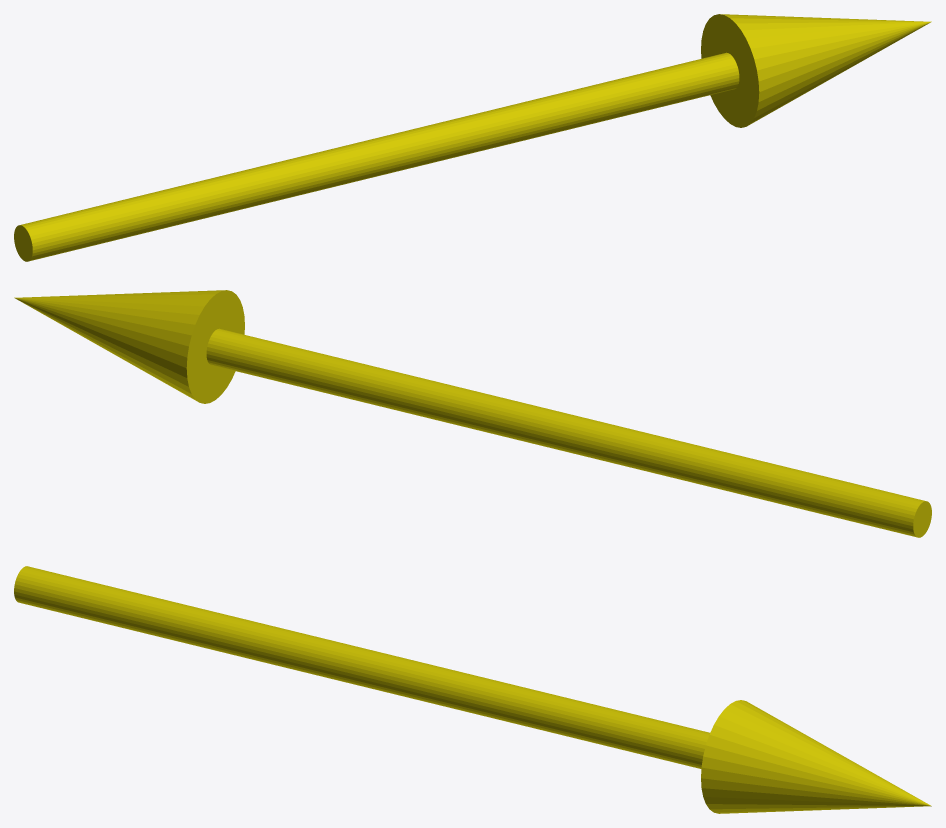
The model's file is translate.fbx.
3 renders of one model, top to bottom at view 1: azimuth 30°, elevation 25°; view 2: azimuth 150°, elevation 25°; view 3: azimuth 330°, elevation 25°, orthographic.
Visible parts, largest first — view 1: Cone; view 2: Cone; view 3: Cone.
Part boxes in pixels (x1,y1,x2,y2): Cone: [14, 14, 931, 261]; Cone: [14, 290, 931, 537]; Cone: [14, 566, 931, 813].
Bounding box in the file's own units: 2.25 × 0.25 × 0.25.
